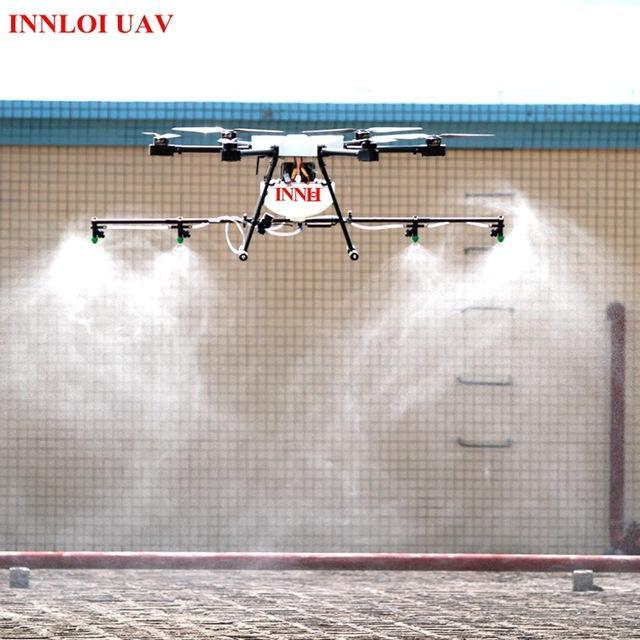drone: (105, 108, 494, 188)
